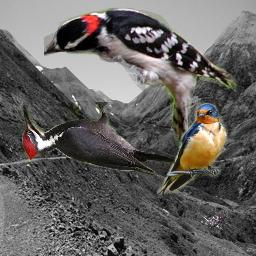Swallow: (157, 103, 228, 195)
Woodpecker: (44, 6, 238, 165), (22, 102, 175, 176), (203, 209, 229, 230)
